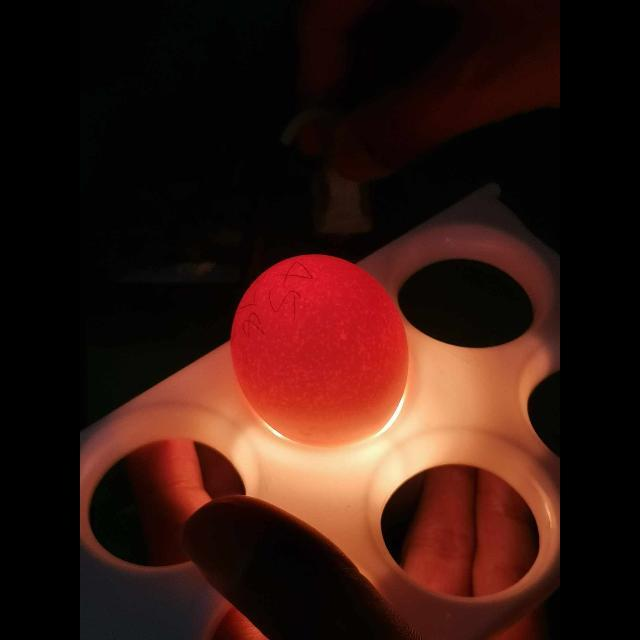Infertile: (235, 252, 402, 440)
